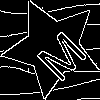M: (28, 22, 89, 84)
